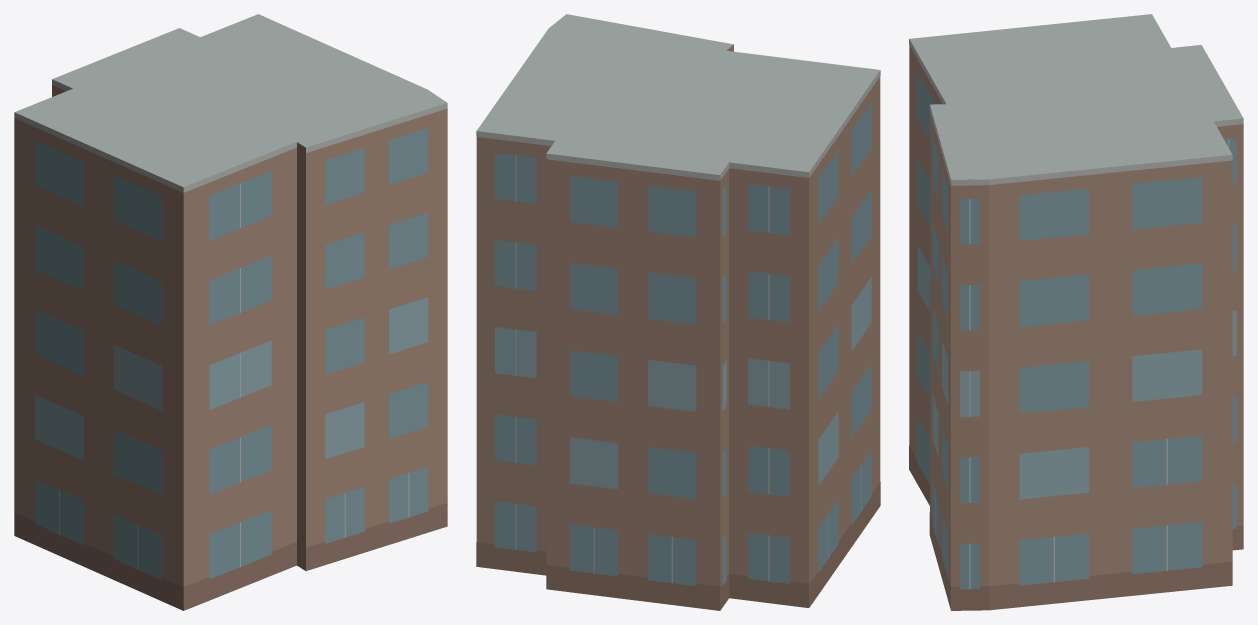
The model's file is survey-upis-32599942.glb.
3 renders of one model, left to right at view 1: azimuth 30°, elevation 25°; view 2: azimuth 150°, elevation 25°; view 3: azimuth 270°, elevation 25°, orthographic. The views are drawn at different scales.
Parts seen in each view (by area): view 1: survey-upis-32599942.tmp; view 2: survey-upis-32599942.tmp; view 3: survey-upis-32599942.tmp.
Part boxes in pixels (box(x1,y1,x2,y2)): survey-upis-32599942.tmp: box(14, 14, 447, 610); survey-upis-32599942.tmp: box(476, 14, 880, 610); survey-upis-32599942.tmp: box(909, 14, 1243, 610).
Size of the model in its own units: 15.22 by 18.4 by 12.96.
